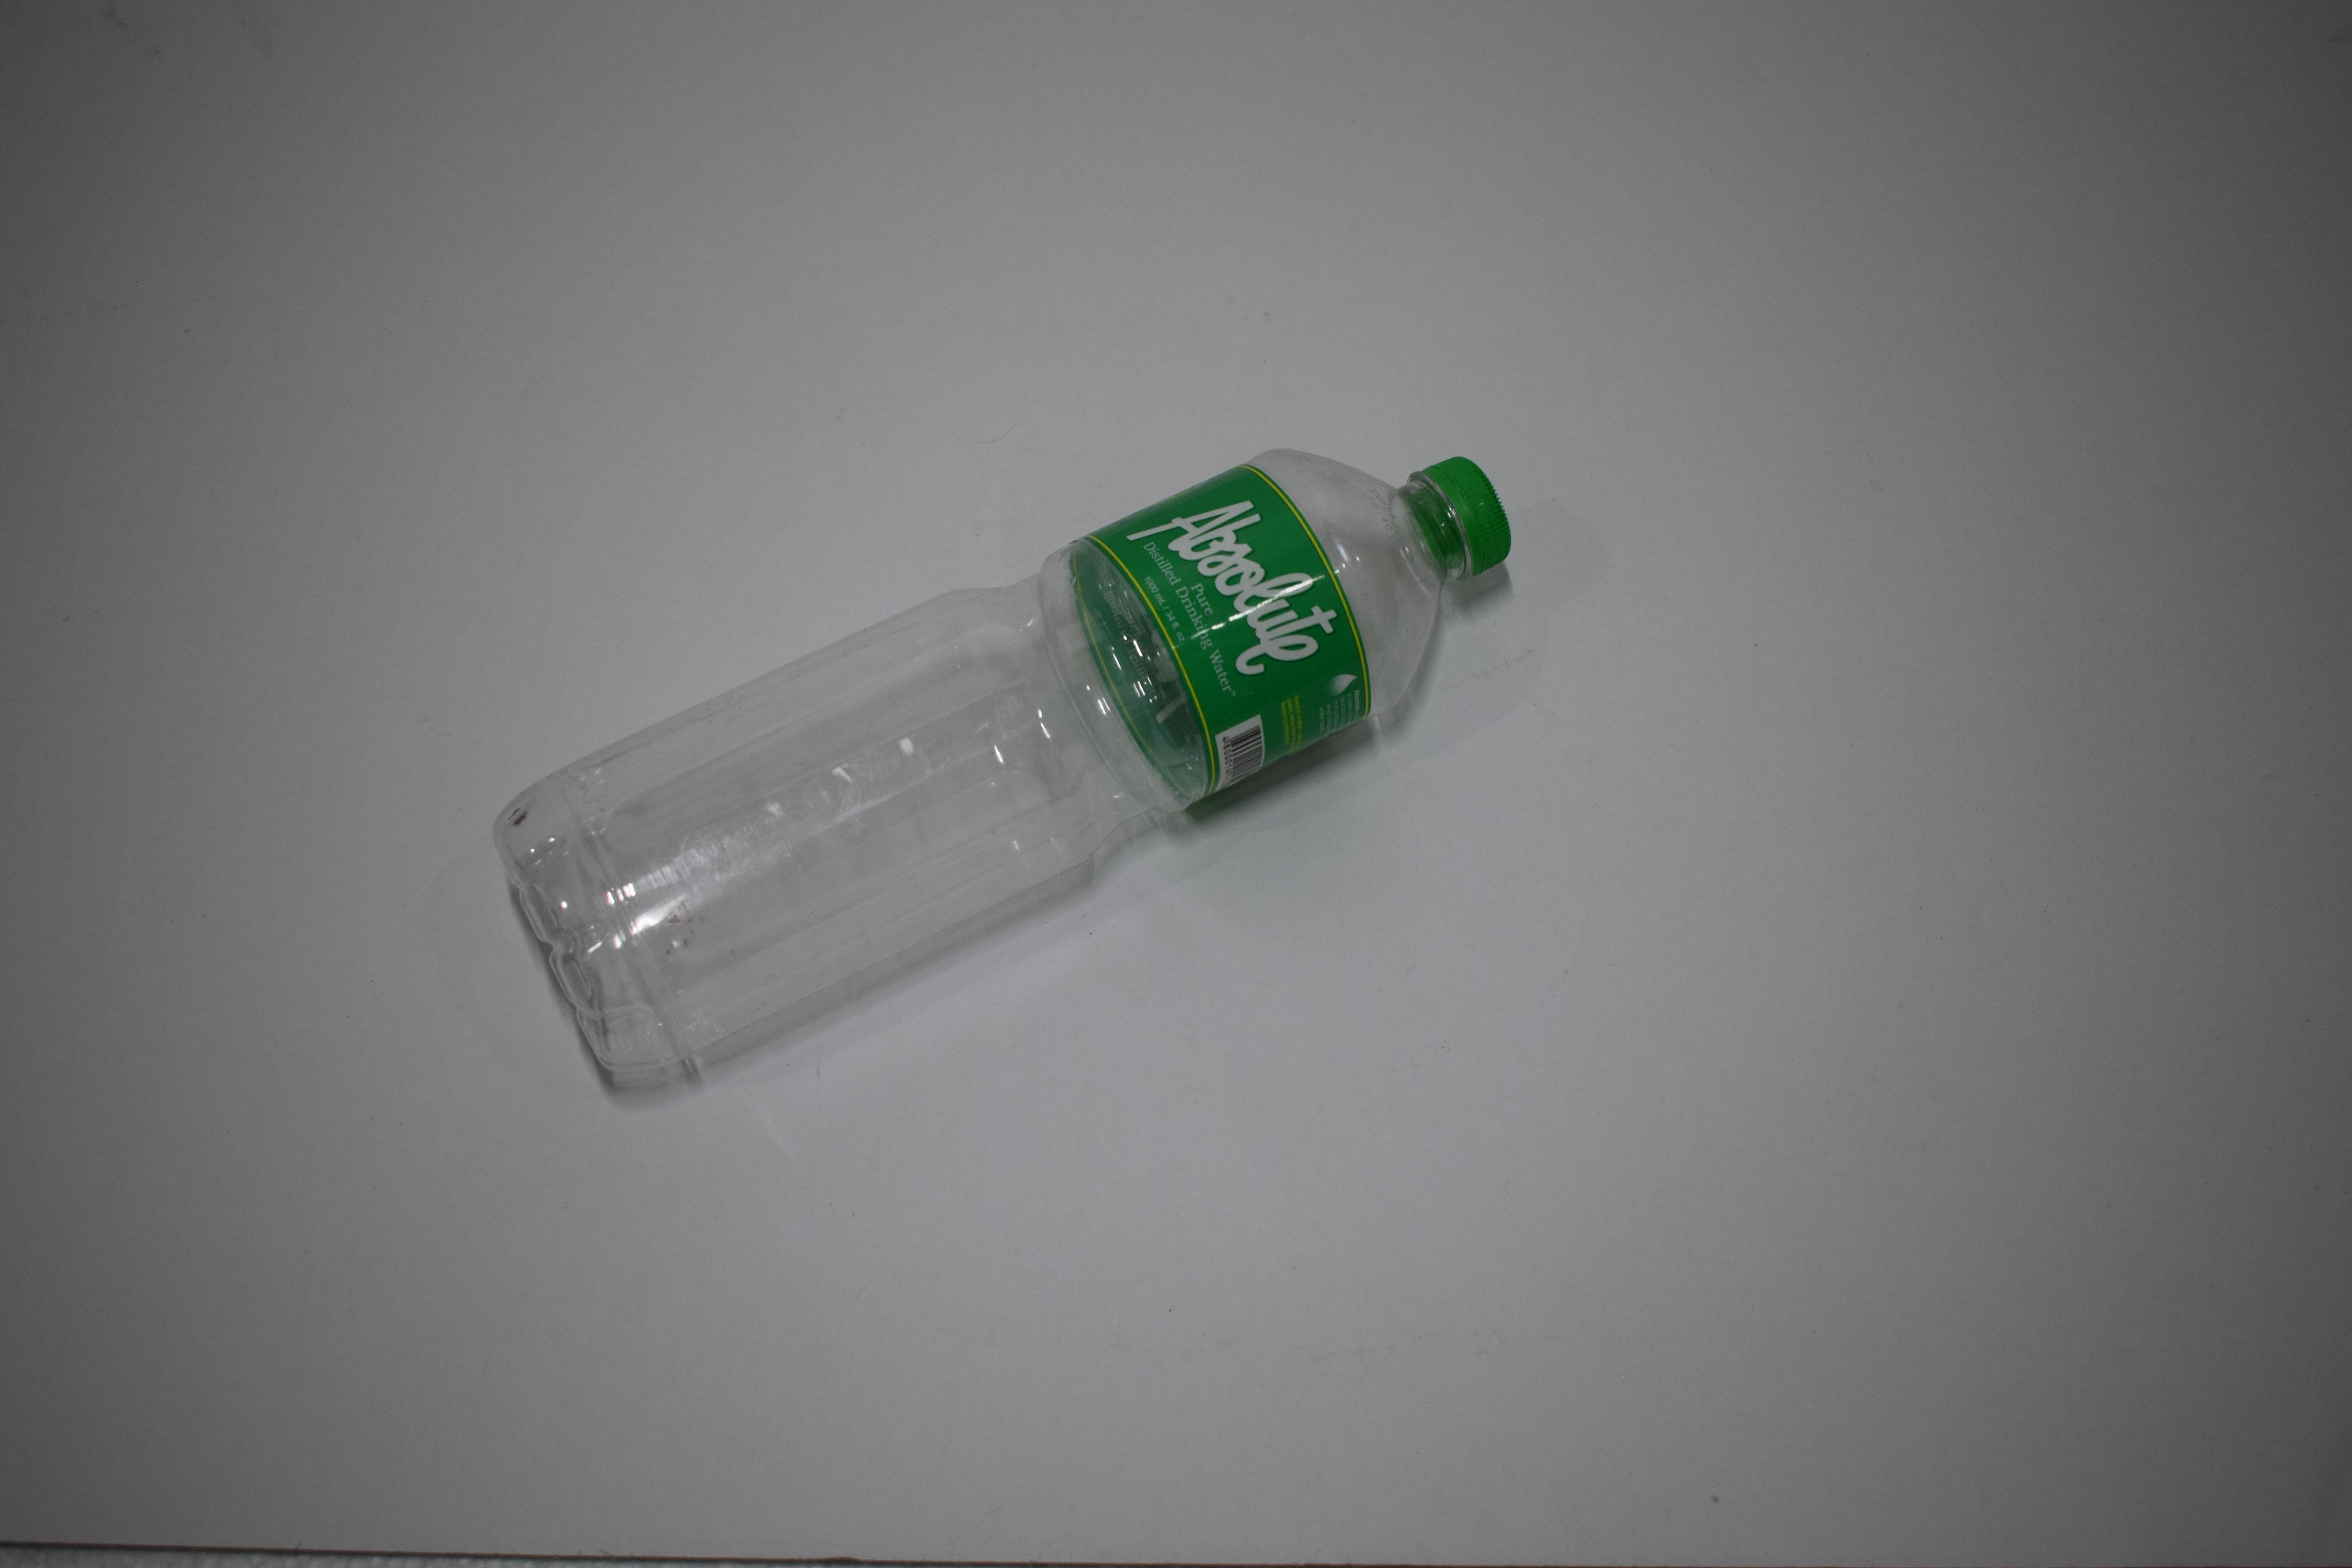bottle: (485, 431, 1524, 1074)
